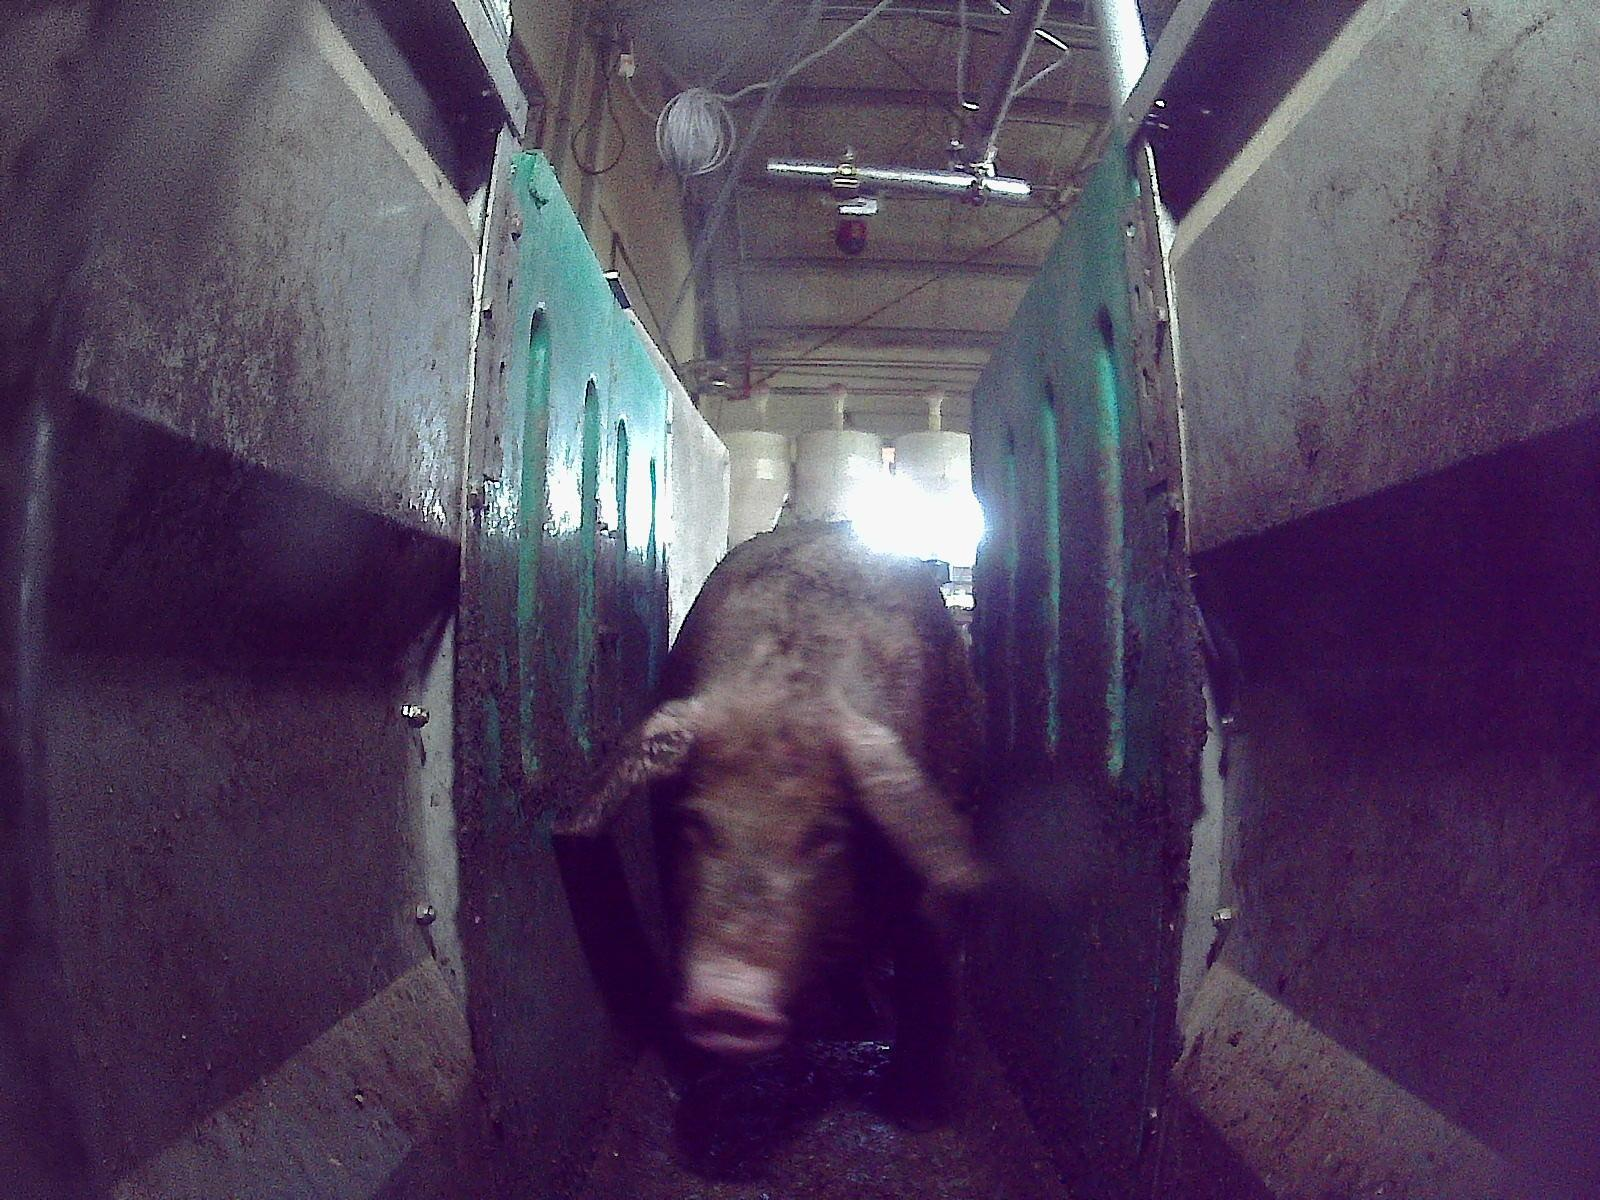Face: (665, 688, 860, 1053)
